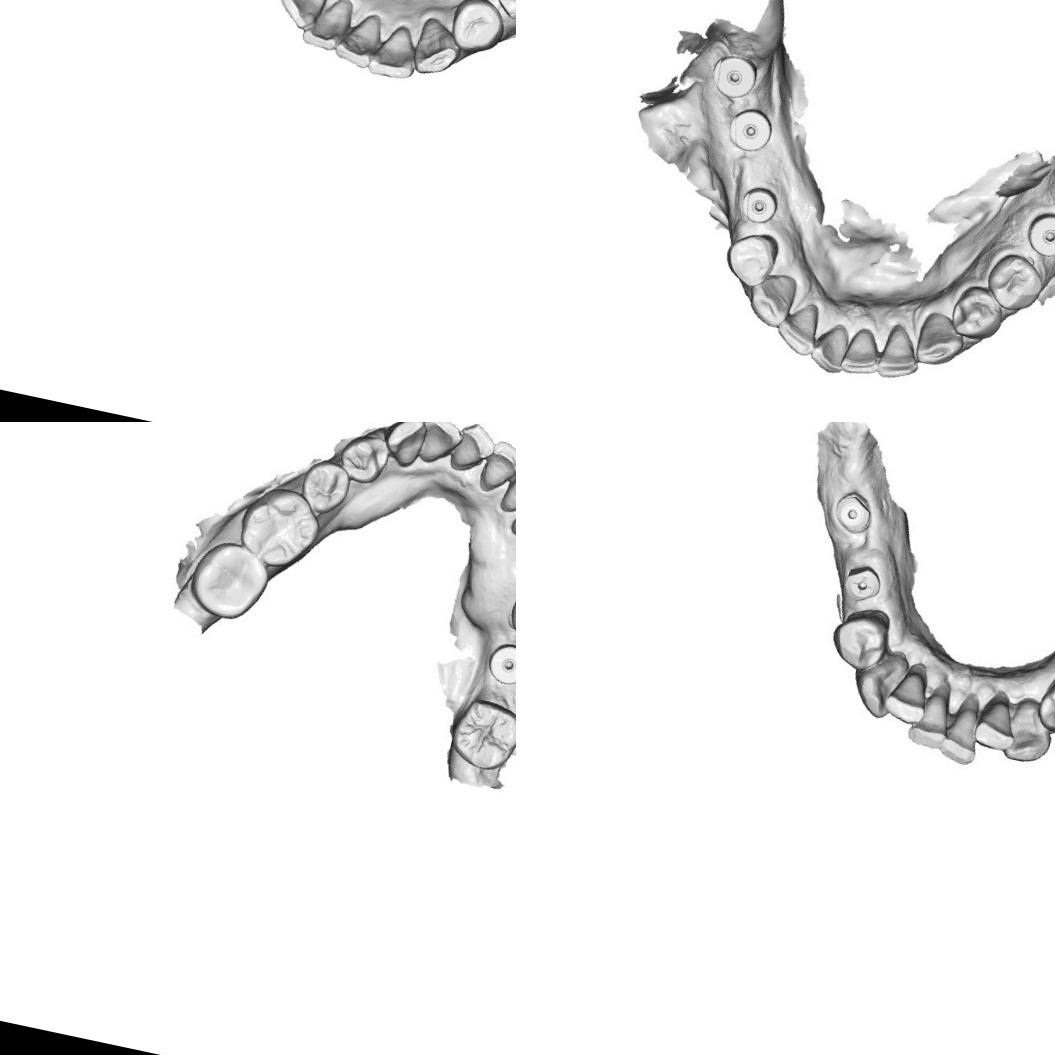canine: (909, 306, 968, 376), (408, 12, 466, 81), (854, 652, 906, 716), (1002, 701, 1054, 763), (742, 271, 794, 330), (379, 422, 429, 473)
implant: (828, 487, 882, 540), (708, 50, 760, 102), (735, 178, 780, 228), (727, 106, 774, 151), (1021, 207, 1055, 261), (483, 636, 516, 689)
implant_plus: (838, 556, 887, 607)
incisor: (904, 679, 961, 756), (364, 17, 426, 86), (940, 690, 988, 770), (330, 5, 386, 73), (882, 660, 936, 730), (297, 0, 356, 57), (772, 296, 824, 359), (971, 691, 1020, 754), (876, 325, 922, 384), (808, 317, 852, 375), (839, 327, 884, 382), (271, 0, 339, 35), (480, 431, 516, 494), (448, 422, 492, 473), (417, 422, 463, 466), (500, 465, 516, 515)
molar: (232, 478, 329, 578), (187, 536, 271, 628), (449, 696, 516, 773)
premolar: (981, 249, 1051, 318), (445, 0, 512, 59), (828, 608, 889, 668), (946, 282, 1005, 343), (719, 228, 778, 288), (300, 456, 352, 516), (340, 432, 389, 481), (1030, 670, 1055, 740)
